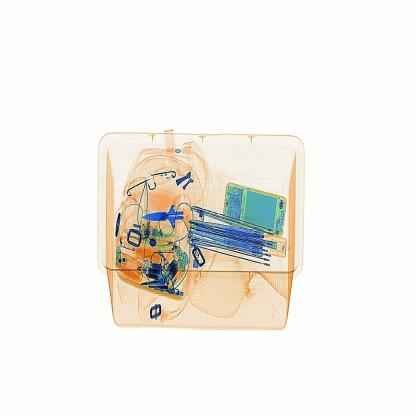gun: (144, 186, 199, 238)
